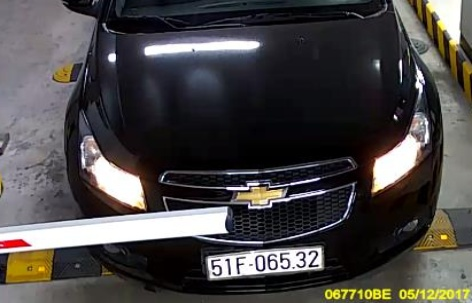plate: (204, 245, 326, 281)
